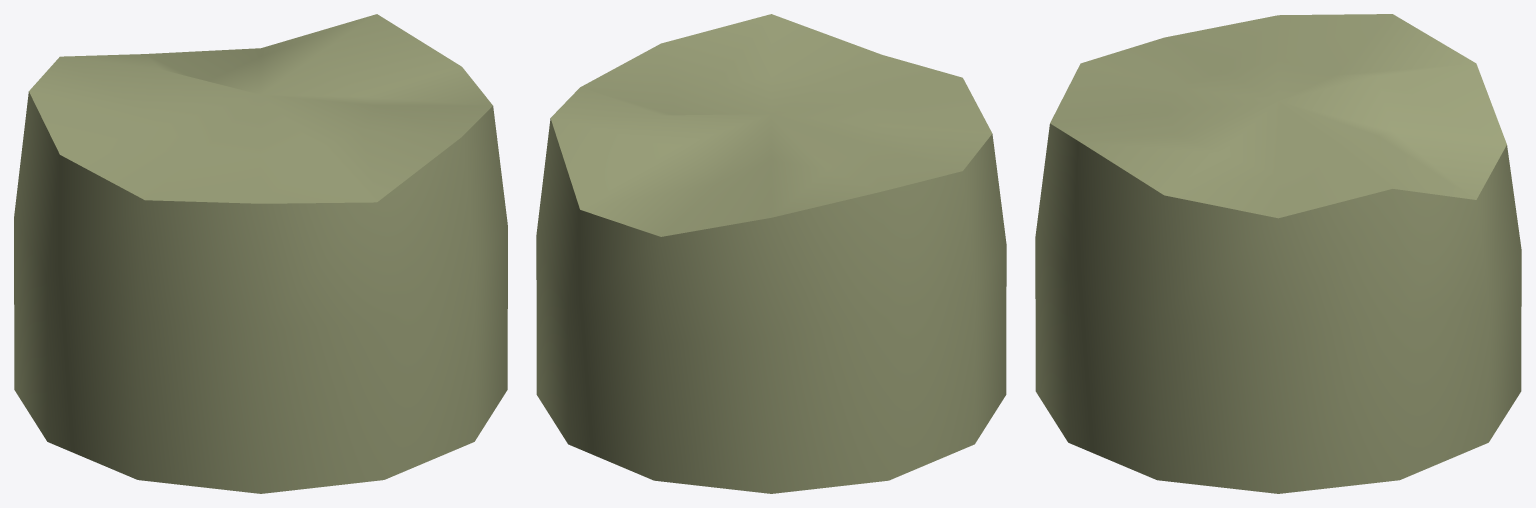
File: BabyFood.fbx
3 renders of one model, left to right at view 1: azimuth 30°, elevation 25°; view 2: azimuth 150°, elevation 25°; view 3: azimuth 270°, elevation 25°, orthographic. The views are drawn at different scales.
Visible parts, largest first — view 1: pCylinder3; view 2: pCylinder3; view 3: pCylinder3.
Boxes of the visible parts, x1,y1,x2,y2 form: pCylinder3: (14,14,507,493); pCylinder3: (536,14,1006,493); pCylinder3: (1035,14,1521,493).
Bounding box in the file's own units: 0.0397 × 0.0268 × 0.0397.
